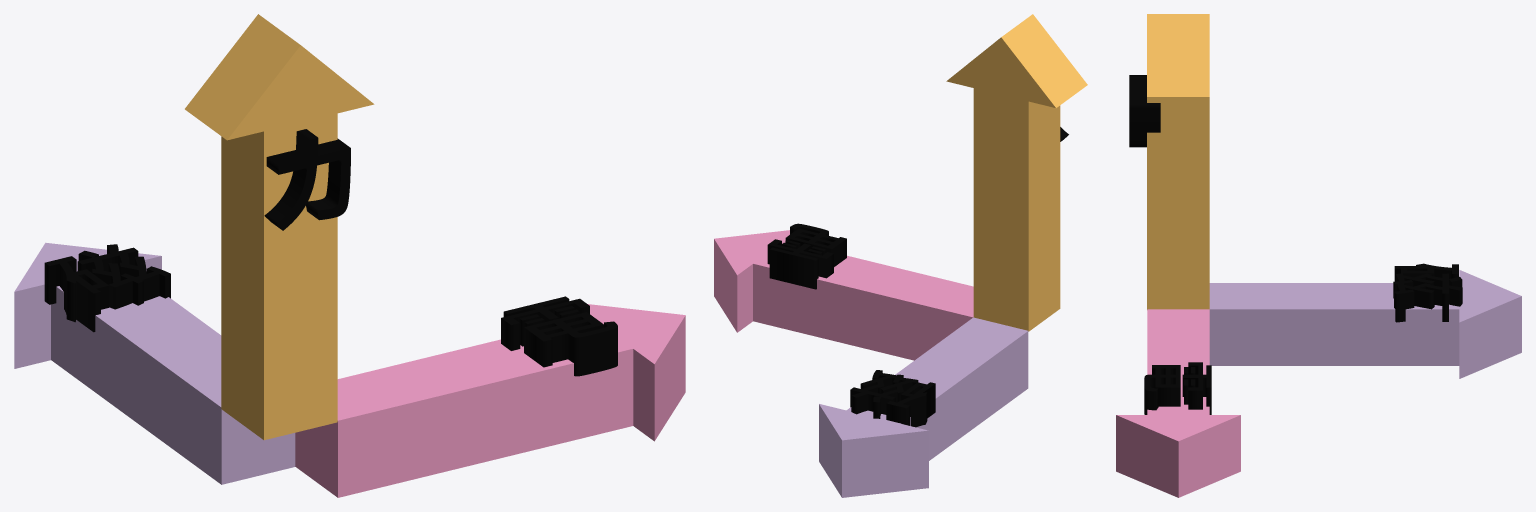
The model's file is flemingc.glb.
3 renders of one model, left to right at view 1: azimuth 30°, elevation 25°; view 2: azimuth 150°, elevation 25°; view 3: azimuth 270°, elevation 25°, orthographic. The views are drawn at different scales.
Visible parts, largest first — view 1: Fleming-0.002, Fleming-0.001, Fleming-0, テキスト, テキスト.002, テキスト.001; view 2: Fleming-0.002, Fleming-0.001, Fleming-0, テキスト.002, テキスト; view 3: Fleming-0, Fleming-0.002, Fleming-0.001, テキスト, テキスト.002, テキスト.001.
Part boxes in pixels (left/top/right/bottom): Fleming-0.002: left=185, top=14, right=374, bottom=440; Fleming-0.001: left=295, top=304, right=685, bottom=497; Fleming-0: left=14, top=242, right=295, bottom=484; テキスト: left=44, top=244, right=170, bottom=332; テキスト.002: left=501, top=296, right=617, bottom=376; テキスト.001: left=264, top=129, right=350, bottom=230; Fleming-0.002: left=946, top=14, right=1087, bottom=331; Fleming-0.001: left=714, top=230, right=973, bottom=360; Fleming-0: left=819, top=317, right=1028, bottom=497; テキスト.002: left=767, top=223, right=846, bottom=289; テキスト: left=850, top=370, right=935, bottom=427; Fleming-0: left=1209, top=270, right=1521, bottom=378; Fleming-0.002: left=1147, top=14, right=1209, bottom=309; Fleming-0.001: left=1116, top=309, right=1240, bottom=497; テキスト: left=1393, top=263, right=1462, bottom=322; テキスト.002: left=1144, top=362, right=1211, bottom=414; テキスト.001: left=1129, top=75, right=1160, bottom=147.
Bounding box in the file's own units: 65.06 × 59.83 × 64.98.
